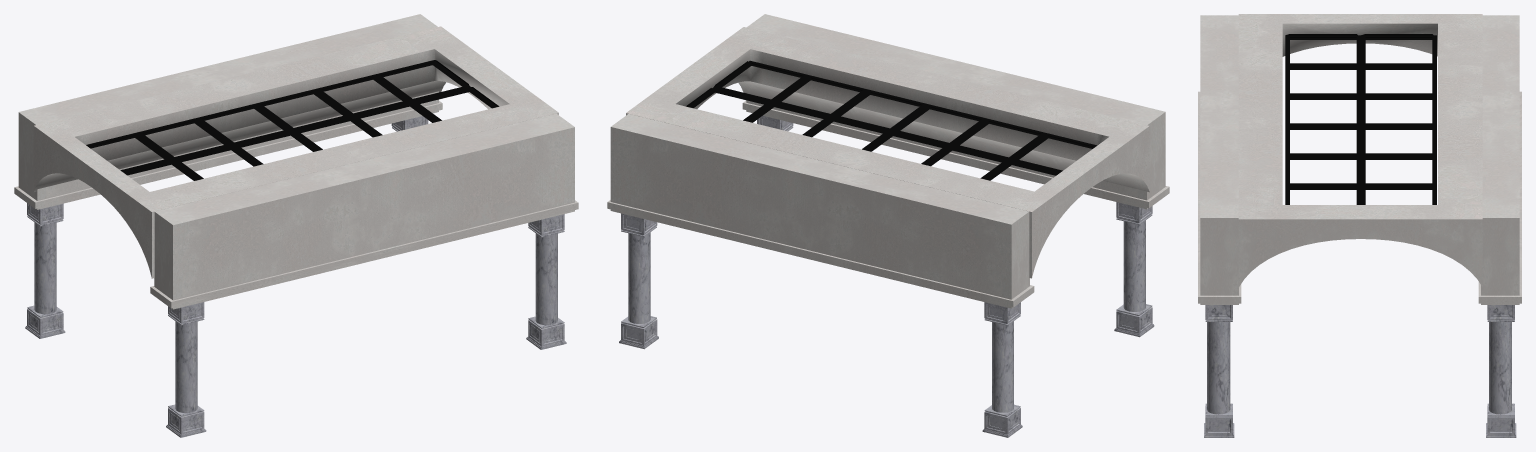
Rendered from Archway.glb.
3 renders of one model, left to right at view 1: azimuth 30°, elevation 25°; view 2: azimuth 150°, elevation 25°; view 3: azimuth 270°, elevation 25°, orthographic. The views are drawn at different scales.
Visible parts, largest first — view 1: Cube.012; view 2: Cube.012; view 3: Cube.012.
Boxes of the visible parts, x1,y1,x2,y2 form: Cube.012: (14,14,578,437); Cube.012: (607,14,1169,437); Cube.012: (1198,14,1521,437).
Bounding box in the file's own units: 16.01 × 8.13 × 10.67.
3 materials, 2 textured.
